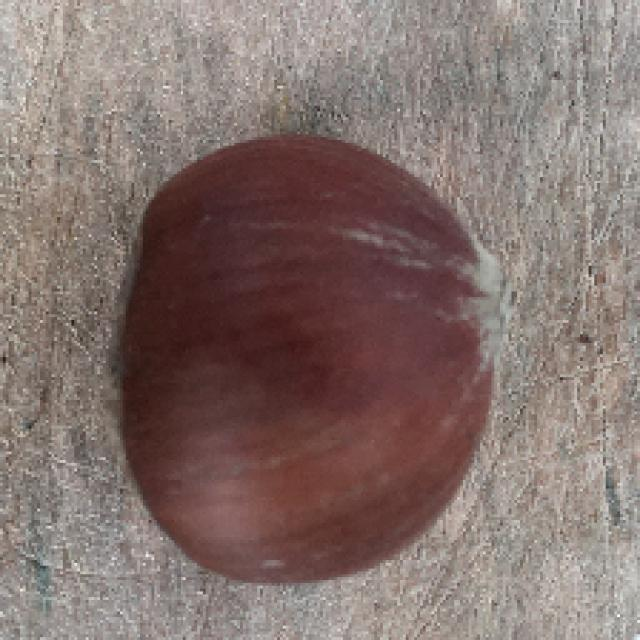qualityHazelnut: (95, 126, 512, 582)
